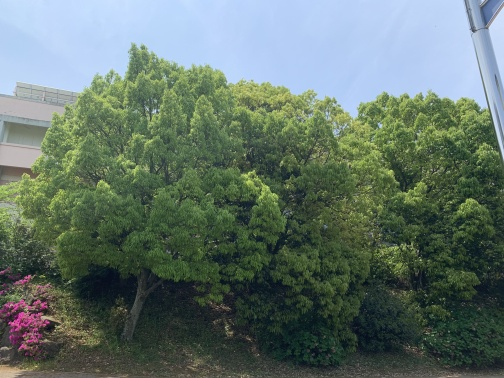College Of Education: (1, 71, 92, 230)
